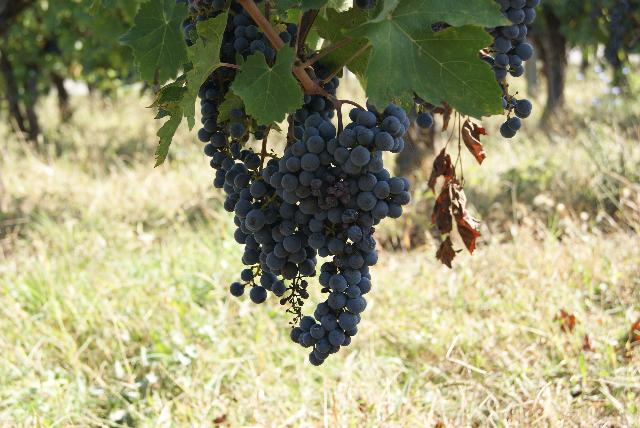grapes: (284, 105, 410, 360), (208, 66, 270, 265), (481, 0, 540, 138), (260, 195, 315, 320), (269, 148, 318, 225)
